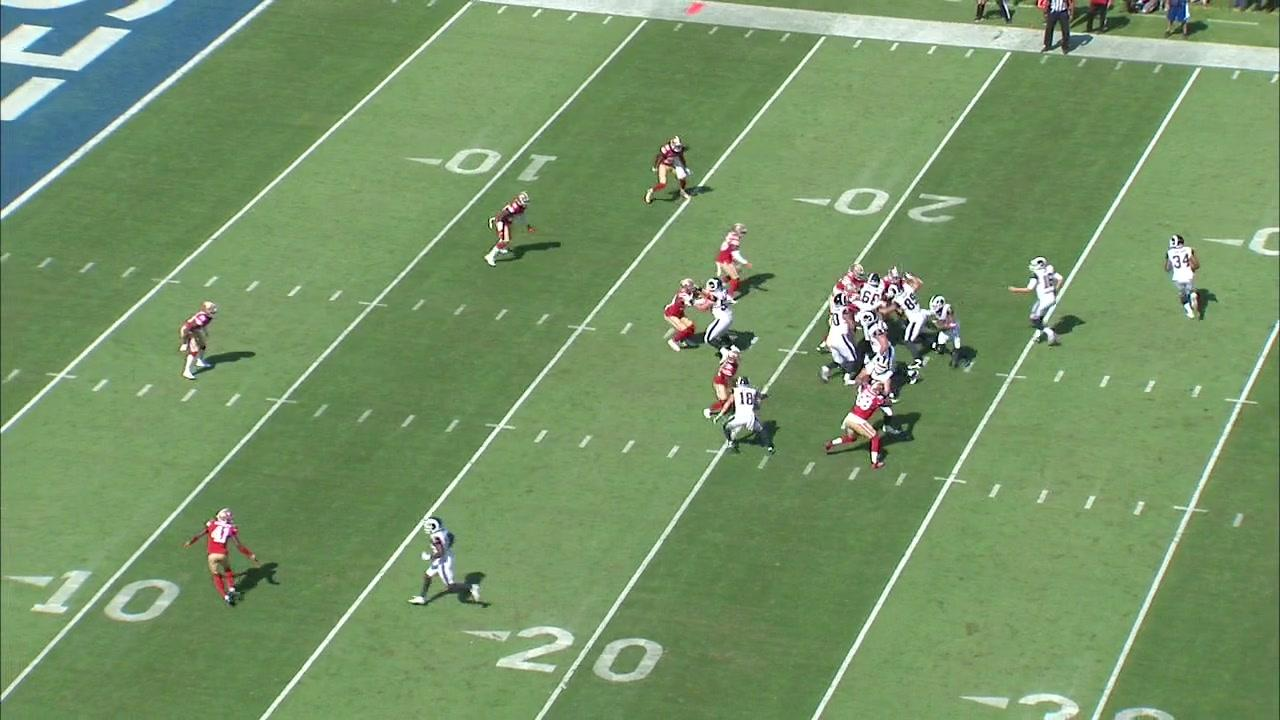defense: (181, 508, 263, 612), (822, 381, 893, 472), (482, 190, 538, 271), (643, 137, 693, 209), (712, 224, 754, 308), (815, 282, 861, 353), (178, 301, 217, 383), (665, 277, 700, 354), (704, 349, 742, 419), (826, 264, 869, 313), (880, 265, 910, 332)
oline: (860, 311, 921, 406), (872, 271, 926, 370), (687, 275, 742, 364), (818, 290, 858, 388), (854, 356, 901, 437), (863, 271, 884, 317)
qb: (1006, 256, 1065, 350)
ref: (1038, 0, 1072, 53)
skill: (409, 513, 482, 608), (711, 374, 774, 459), (1161, 230, 1205, 323), (927, 294, 961, 372)
